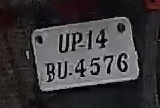1: (86, 28, 94, 54)
4: (95, 26, 110, 50), (74, 57, 87, 82)
5: (89, 55, 104, 78)
6: (115, 51, 132, 76)
7: (101, 53, 115, 77)
B: (42, 60, 57, 85)
P: (70, 30, 82, 53)
U: (58, 32, 70, 55), (56, 59, 68, 82)
